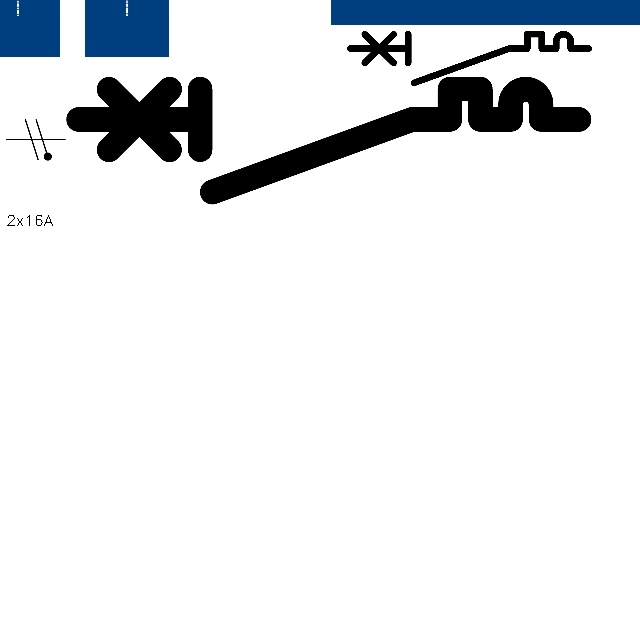interruptor_termomagnetico: (65, 76, 591, 205), (344, 28, 595, 89)
